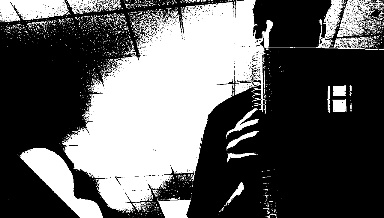H: (325, 84, 354, 112)
